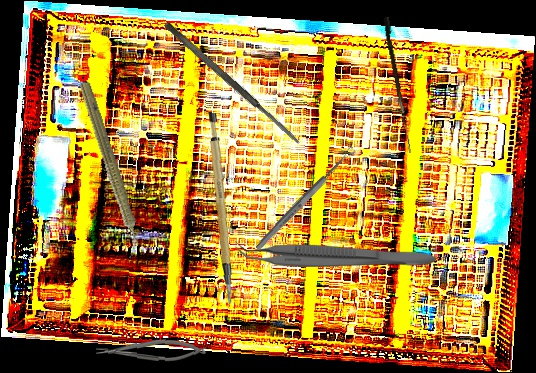Handpiece: (71, 79, 150, 261)
Hook Surgical: (380, 16, 418, 154)
Needle Holder: (95, 337, 207, 363)
Scalpel Handle: (196, 112, 242, 304)
Spatula Surgical: (162, 20, 303, 147)
Surgical Spoon: (253, 145, 358, 252)
Tissue Forceps: (234, 241, 436, 267)
